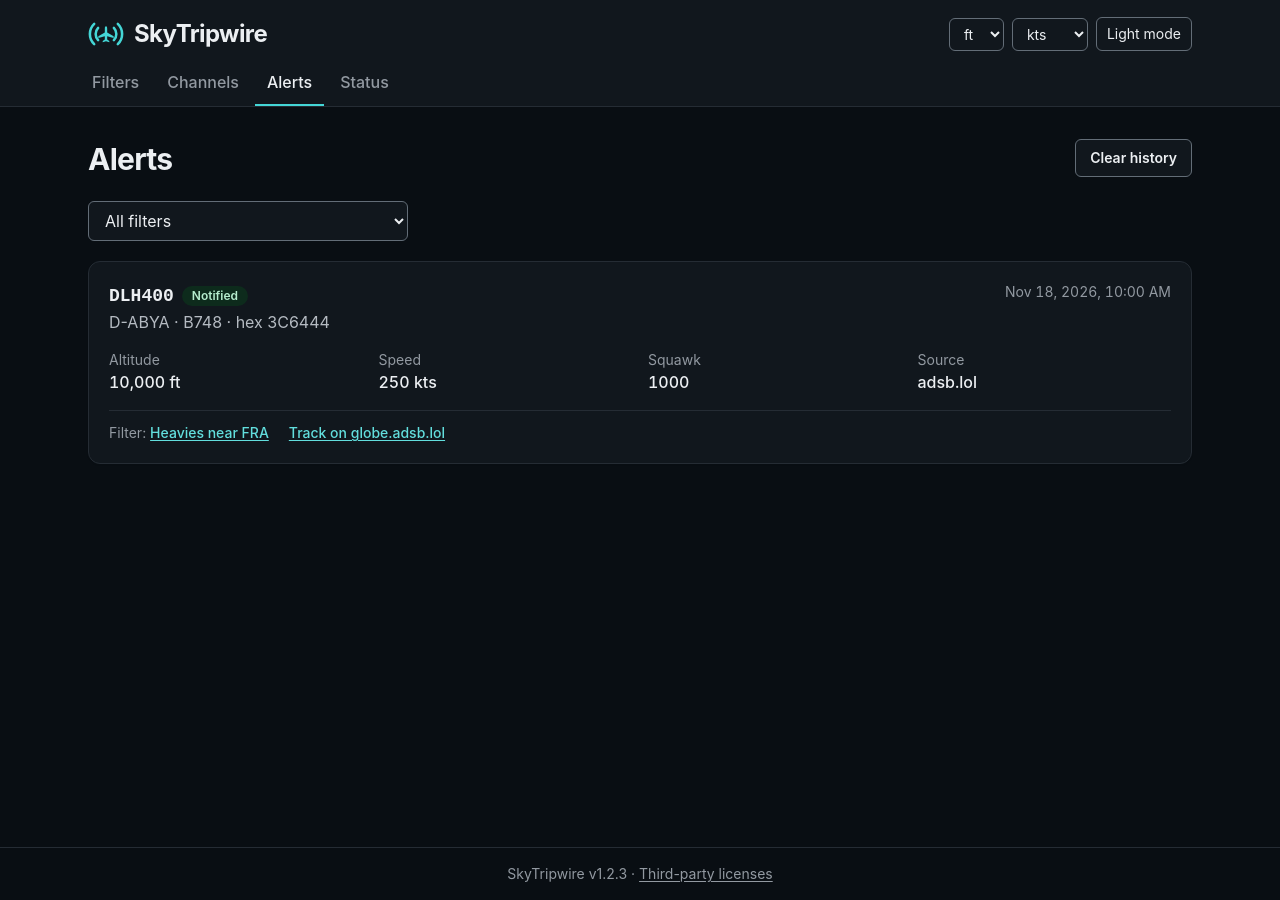
Test case: alert history › clears the history after confirmation
Later steps or results of the test are not shown.
Click the button "Clear history". click: coordinates (1134, 158)
box: [1075,139,1192,177]
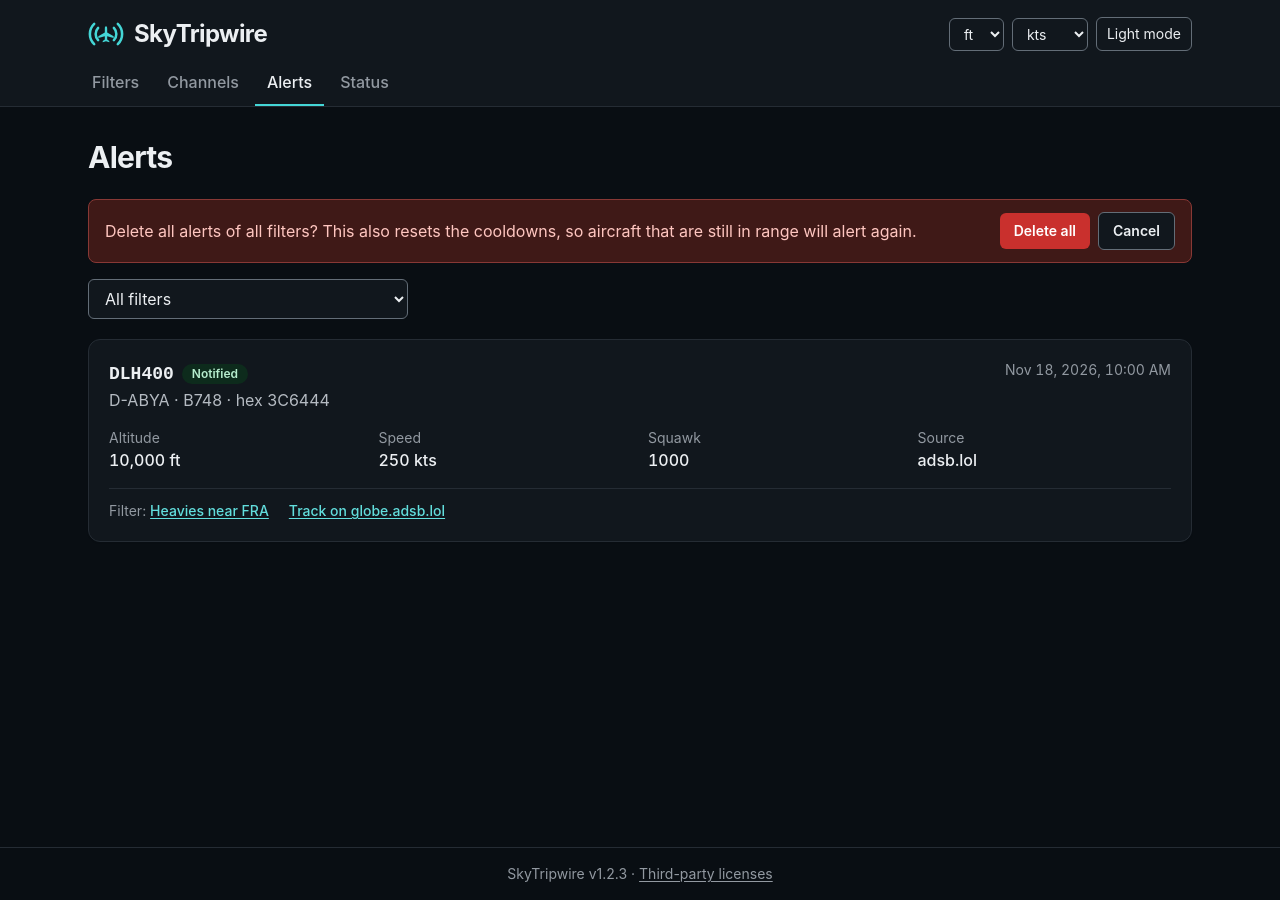
Now the text "resets the cooldowns" is shown, box [105,221,916,241]
